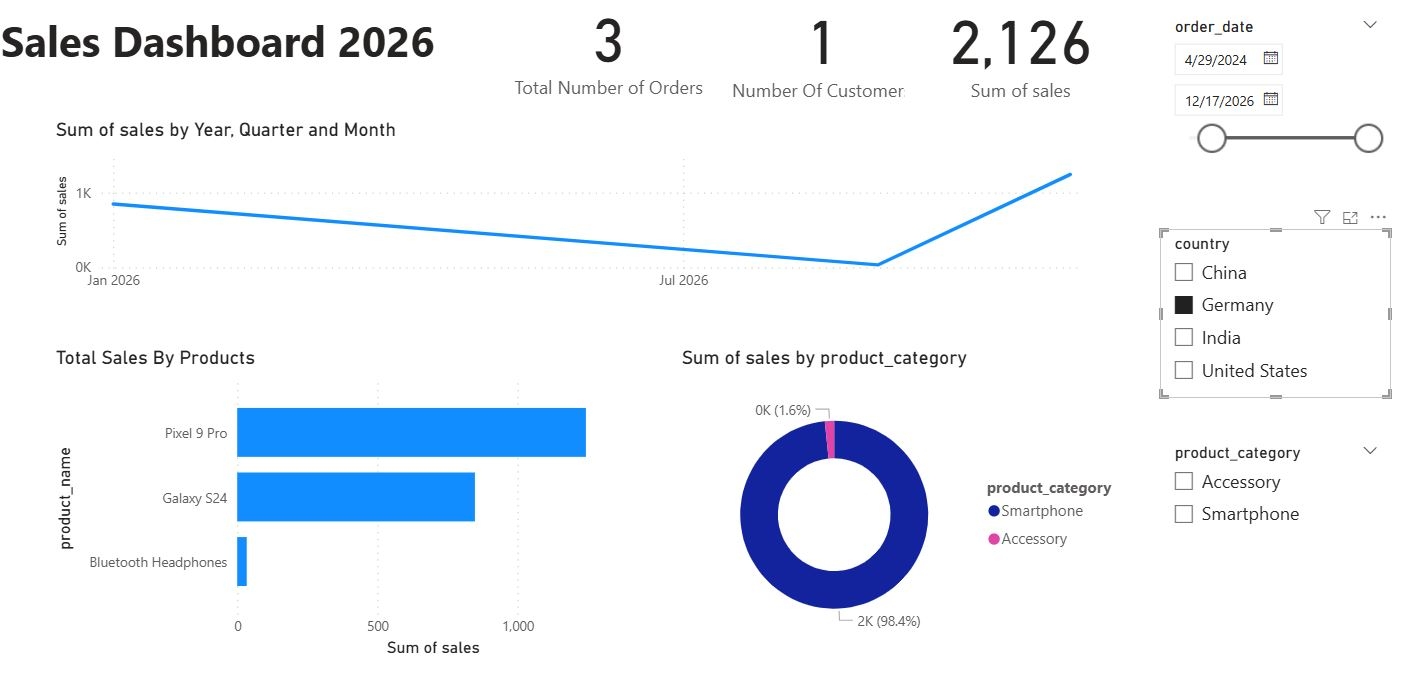

What the dashboard file says about the page in this screenshot:
{"tool":"powerbi","page":{"name":"Page 1","canvas":[1280,720],"ordinal":0},"visuals":[{"type":"barChart","title":"Total Sales By Products","fields":{"Category":["orders.product_name"],"Y":["Sum(orders.sales)"]},"box":[48.6,342.4,534,280.1],"z":0},{"type":"donutChart","fields":{"Y":["Sum(orders.sales)"],"Category":["orders.product_category"]},"box":[604,342.4,406.6,280.1],"z":1000},{"type":"card","fields":{"Values":["CountNonNull(orders.order_id)"]},"box":[441.6,23.3,205.2,103.1],"z":2000},{"type":"card","fields":{"Values":["Count(orders.customer_id)"]},"box":[630.3,22.4,205.2,108.9],"z":3000},{"type":"card","fields":{"Values":["Sum(orders.sales)"]},"box":[807.3,27.2,205.2,99.2],"z":4000},{"type":"lineChart","fields":{"Y":["Sum(orders.sales)"],"Category":["orders.order_date.Variation.Date Hierarchy.Year","orders.order_date.Variation.Date Hierarchy.Quarter","orders.order_date.Variation.Date Hierarchy.Month","orders.order_date.Variation.Date Hierarchy.Day"]},"box":[48.6,140.1,931.8,162.4],"z":5000},{"type":"slicer","fields":{"Values":["orders.order_date"]},"box":[1032.9,45.7,205.2,170.2],"z":6000},{"type":"slicer","fields":{"Values":["orders.product_category"]},"box":[1032.9,424.1,205.2,149.8],"z":7000},{"type":"slicer","fields":{"Values":["customers.country"]},"box":[1032.9,238.3,205.2,149.8],"z":8000},{"type":"textbox","box":[0,40.9,399.8,85.6],"z":8001}]}

Visuals, with their boxes on the page's 1280x720 design canvas (x1, y1, x2, y2). These are canvas units, not pixel positions in the 1417x677 screenshot, which may show the page scaled, cropped or inside an application window:
"Total Sales By Products" barChart: (left=49, top=342, right=583, bottom=622)
donutChart - Sum(orders.sales) x orders.product_category: (left=604, top=342, right=1011, bottom=622)
card - CountNonNull(orders.order_id): (left=442, top=23, right=647, bottom=126)
card - Count(orders.customer_id): (left=630, top=22, right=836, bottom=131)
card - Sum(orders.sales): (left=807, top=27, right=1012, bottom=126)
lineChart - Sum(orders.sales) x orders.order_date.Variation.Date Hierarchy.Year: (left=49, top=140, right=980, bottom=302)
slicer - orders.order_date: (left=1033, top=46, right=1238, bottom=216)
slicer - orders.product_category: (left=1033, top=424, right=1238, bottom=574)
slicer - customers.country: (left=1033, top=238, right=1238, bottom=388)
textbox: (left=0, top=41, right=400, bottom=126)
